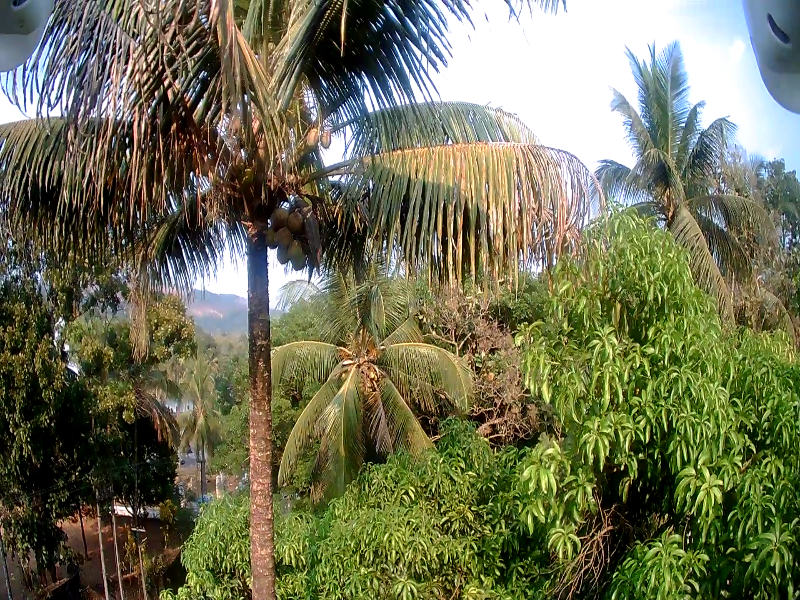coconut: (277, 226, 291, 247), (293, 247, 306, 268), (318, 131, 330, 152), (276, 247, 289, 265), (307, 134, 318, 151), (278, 208, 289, 224), (287, 207, 296, 226), (271, 231, 278, 248)
